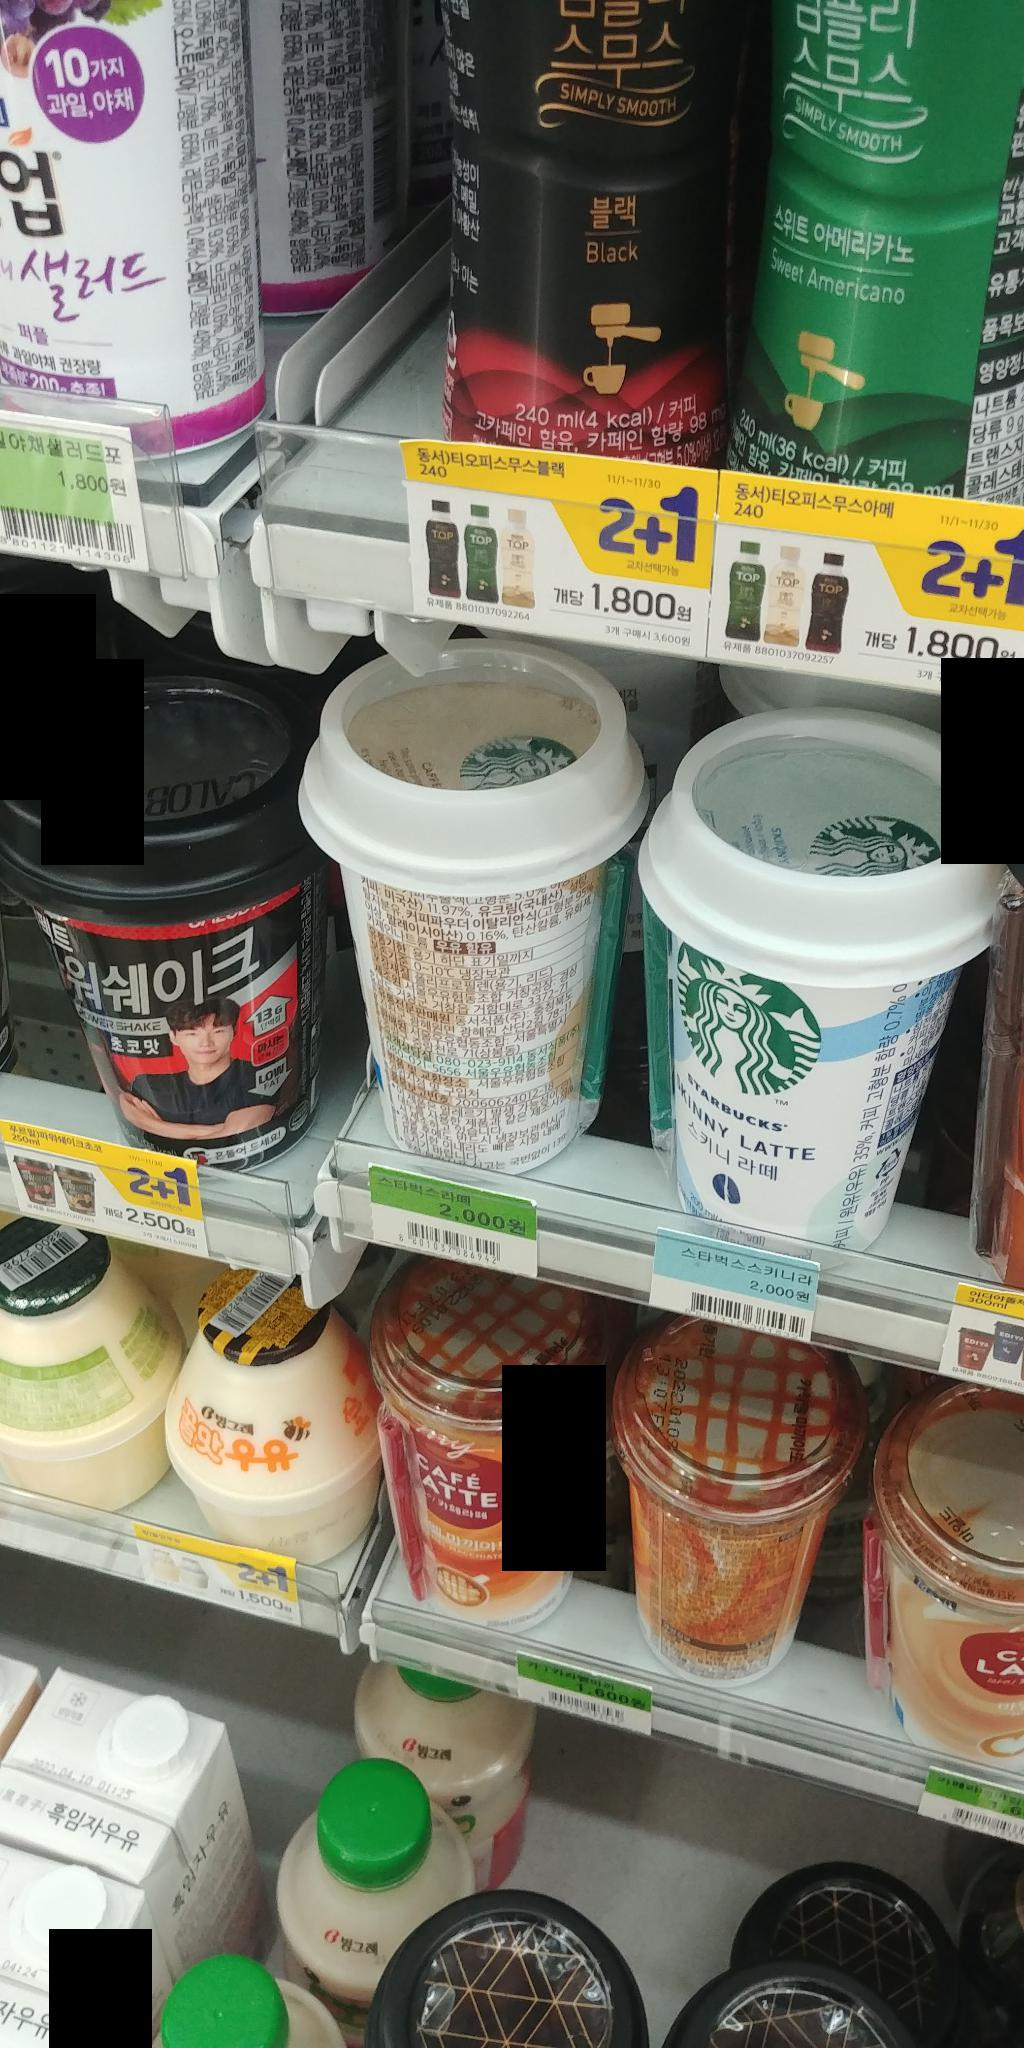starbucks_cafelatte: (286, 635, 649, 1192)
